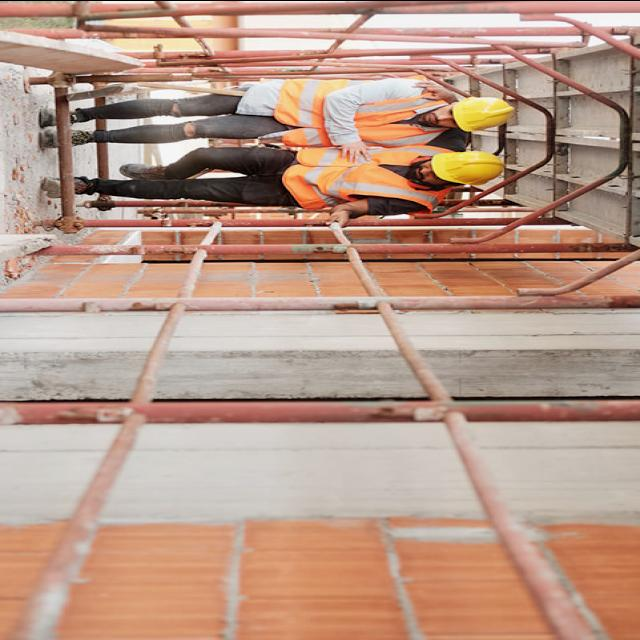Boots: (36, 105, 94, 152), (114, 159, 186, 181), (41, 174, 93, 198)
Hard Hat: (431, 148, 509, 186), (450, 93, 520, 131)
Reflective Vest: (272, 65, 456, 148), (286, 142, 458, 216)
